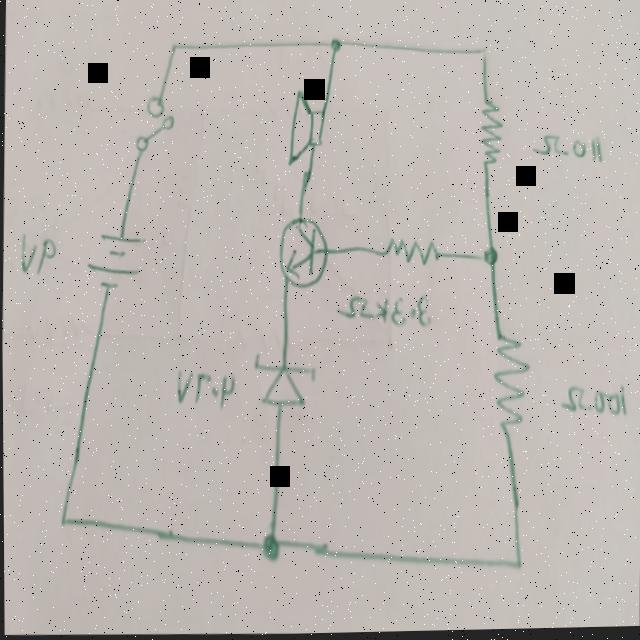diode: (253, 353, 316, 409)
junction: (253, 524, 286, 567), (480, 245, 499, 270), (510, 553, 525, 579), (328, 38, 343, 59), (57, 509, 69, 531), (168, 37, 180, 57), (478, 45, 489, 65)
resistor: (490, 328, 529, 434), (379, 234, 443, 267), (478, 97, 504, 169)
source: (86, 229, 146, 295)
switch: (134, 91, 177, 154)
text: (335, 290, 432, 331), (174, 370, 237, 410), (559, 384, 627, 420), (530, 133, 605, 164), (19, 232, 56, 274)
transistor: (277, 213, 329, 290)
